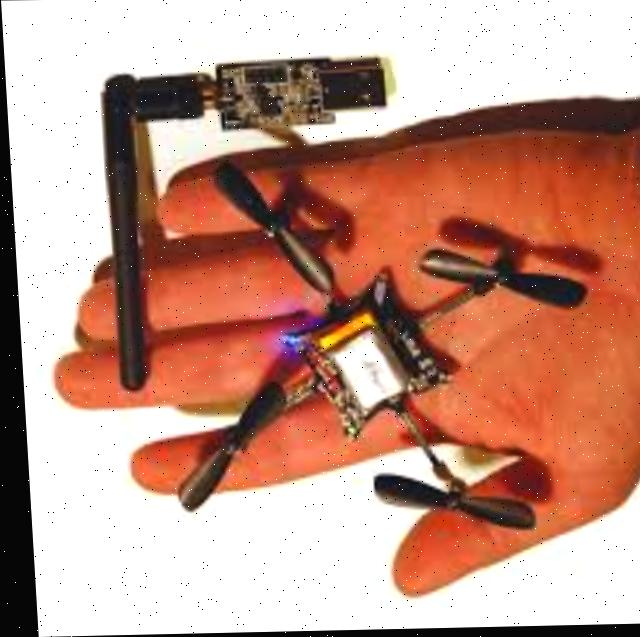drone: (157, 144, 586, 545)
